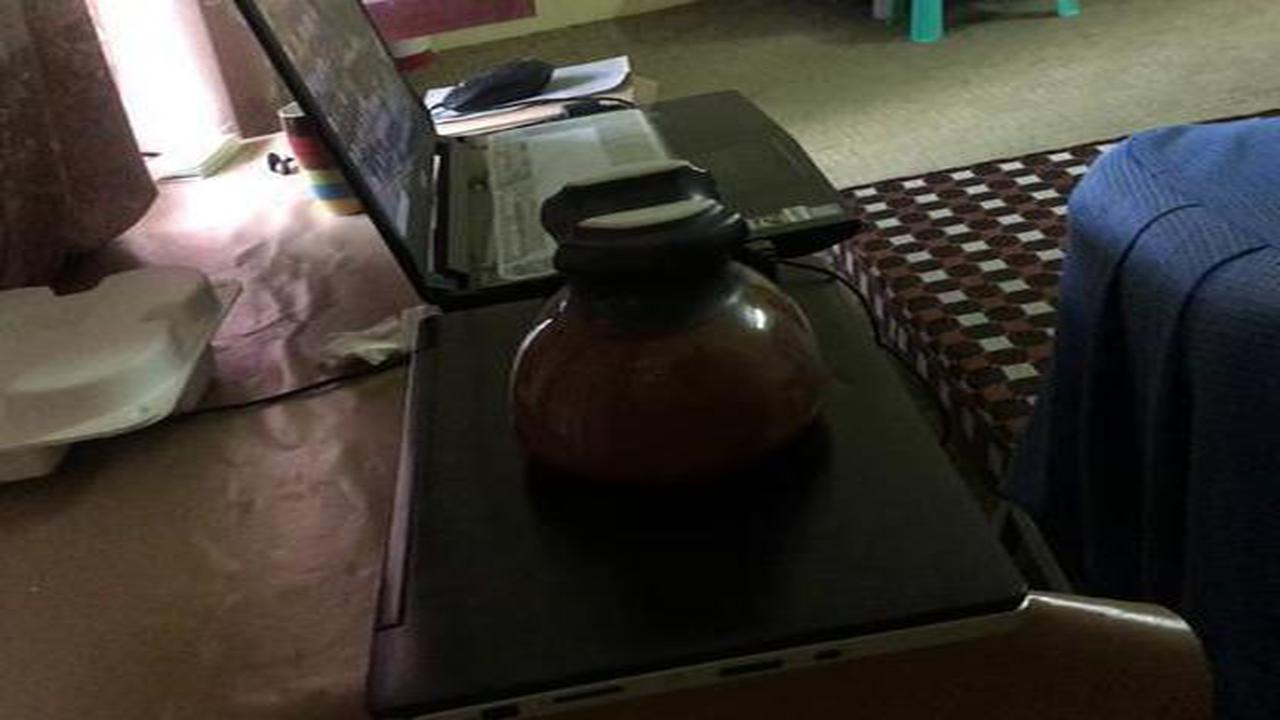insulator_pin: (487, 153, 853, 511)
